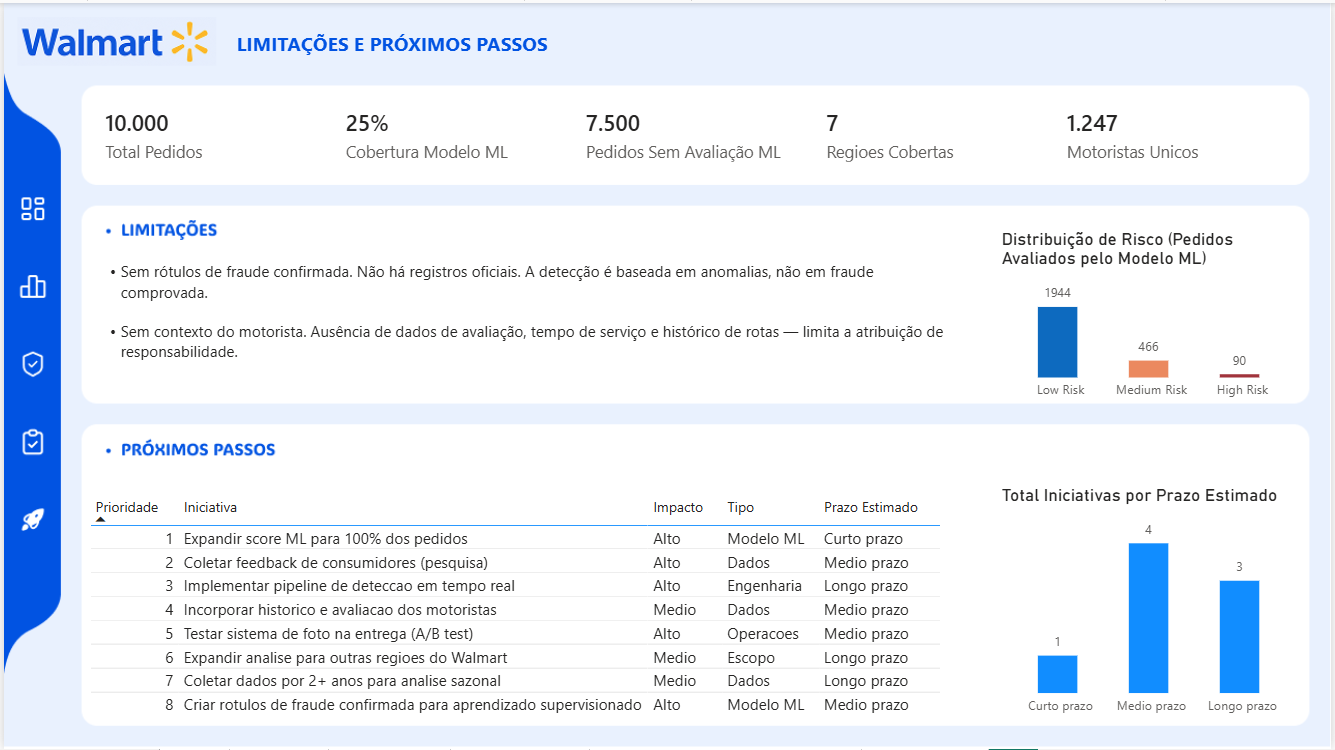

The dashboard page shown, as its layout file describes it:
{"tool":"powerbi","page":{"name":"Limitações e Próximos Passos","canvas":[1280,720],"ordinal":4},"visuals":[{"type":"cardVisual","fields":{"Data":["_Medidas.Total Pedidos Dataset","_Medidas.Cobertura Modelo ML","_Medidas.Pedidos Sem Avaliação ML","_Medidas.Regioes Cobertas","_Medidas.Motoristas Unicos"]},"box":[68.2,75.4,1189.9,104.1],"z":0},{"type":"columnChart","title":"Distribuição de Risco (Pedidos Avaliados pelo Modelo ML)","fields":{"Category":["orders_scored.risk_level"],"Y":["CountNonNull(orders_scored.risk_level)"]},"box":[958.4,217.2,299.7,174.1],"z":1000},{"type":"textbox","box":[85.9,243.4,826.1,126],"z":2000},{"type":"textbox","box":[219.3,21.6,631.9,66.4],"z":3000},{"type":"columnChart","fields":{"Y":["_Medidas.Total Iniciativas"],"Category":["ProximosPassos.Prazo Estimado"]},"box":[958.4,464.8,299.7,231.5],"z":4000},{"type":"tableEx","fields":{"Values":["Sum(ProximosPassos.Prioridade)","ProximosPassos.Iniciativa","ProximosPassos.Impacto","ProximosPassos.Tipo","ProximosPassos.Prazo Estimado"]},"box":[77.2,470.2,834.6,242.3],"z":5000},{"type":"actionButton","box":[2.4,254.6,51.9,39.8],"z":6000},{"type":"actionButton","box":[2.4,329.4,51.9,39.8],"z":7000},{"type":"actionButton","box":[2.4,403,51.9,39.8],"z":8000},{"type":"actionButton","box":[3.6,477.8,51.9,39.8],"z":9000},{"type":"actionButton","box":[3.6,182.2,51.9,39.8],"z":10000}]}

Visuals, with their boxes on the page's 1280x720 design canvas (x1, y1, x2, y2). These are canvas units, not pixel positions in the 1335x750 screenshot, which may show the page scaled, cropped or inside an application window:
cardVisual - _Medidas.Total Pedidos Dataset x _Medidas.Cobertura Modelo ML: (68,75,1258,180)
"Distribuição de Risco (Pedidos Avaliados pelo Modelo ML)" columnChart: (958,217,1258,391)
textbox: (86,243,912,369)
textbox: (219,22,851,88)
columnChart - _Medidas.Total Iniciativas x ProximosPassos.Prazo Estimado: (958,465,1258,696)
tableEx - Sum(ProximosPassos.Prioridade) x ProximosPassos.Iniciativa: (77,470,912,712)
actionButton: (2,255,54,294)
actionButton: (2,329,54,369)
actionButton: (2,403,54,443)
actionButton: (4,478,56,518)
actionButton: (4,182,56,222)
